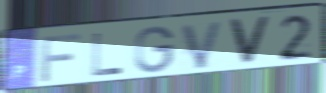2: (279, 13, 313, 62)
F: (39, 32, 83, 84)
G: (133, 24, 177, 75)
L: (90, 31, 125, 79)
V: (179, 18, 226, 71), (226, 15, 273, 67)
